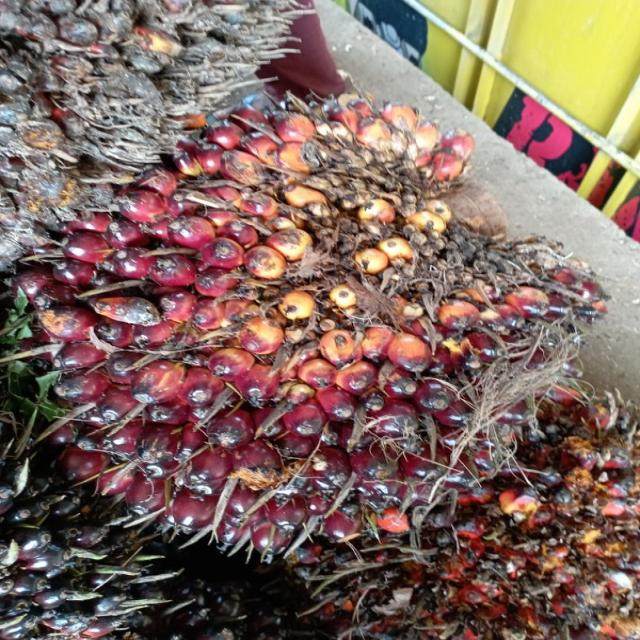fraksi 1: (8, 30, 606, 580)
